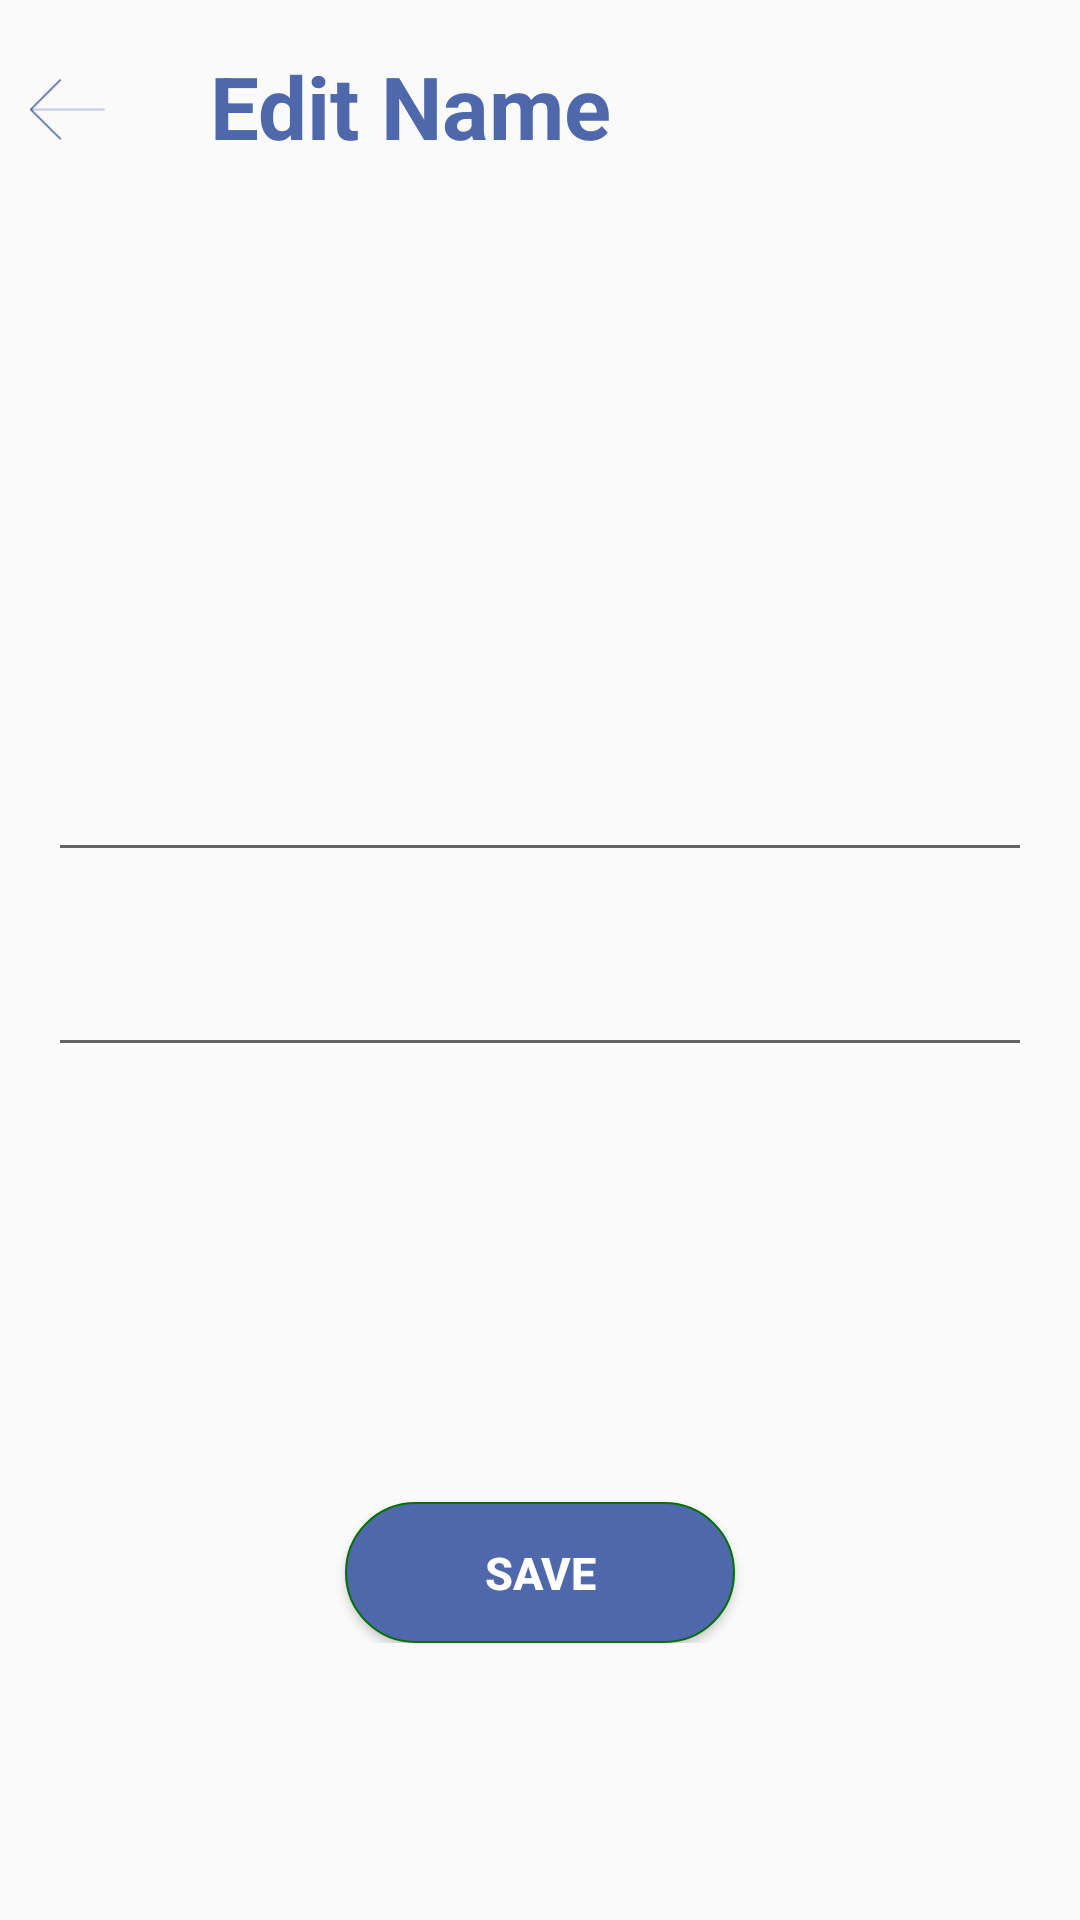

Screen size 1080px×1920px. Icon name, then its center in pixels as [x,y]:
bluearrow: [67,109]
